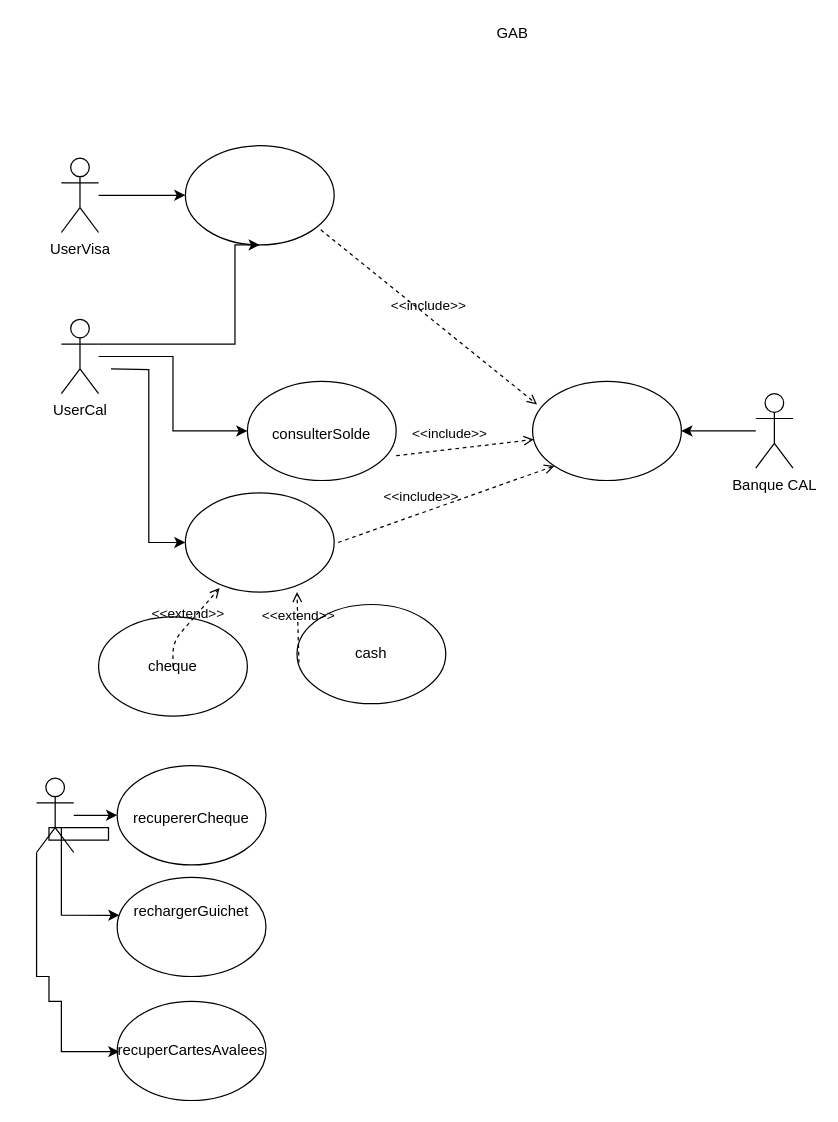
This 838x1122 diagram has some shape labels left out. The centre of each missing label's shape, as x and y in pixels:
Authentifier: (x=606, y=430)
deposer: (x=259, y=542)
Operateur: (x=54, y=814)
retirer: (x=259, y=194)
